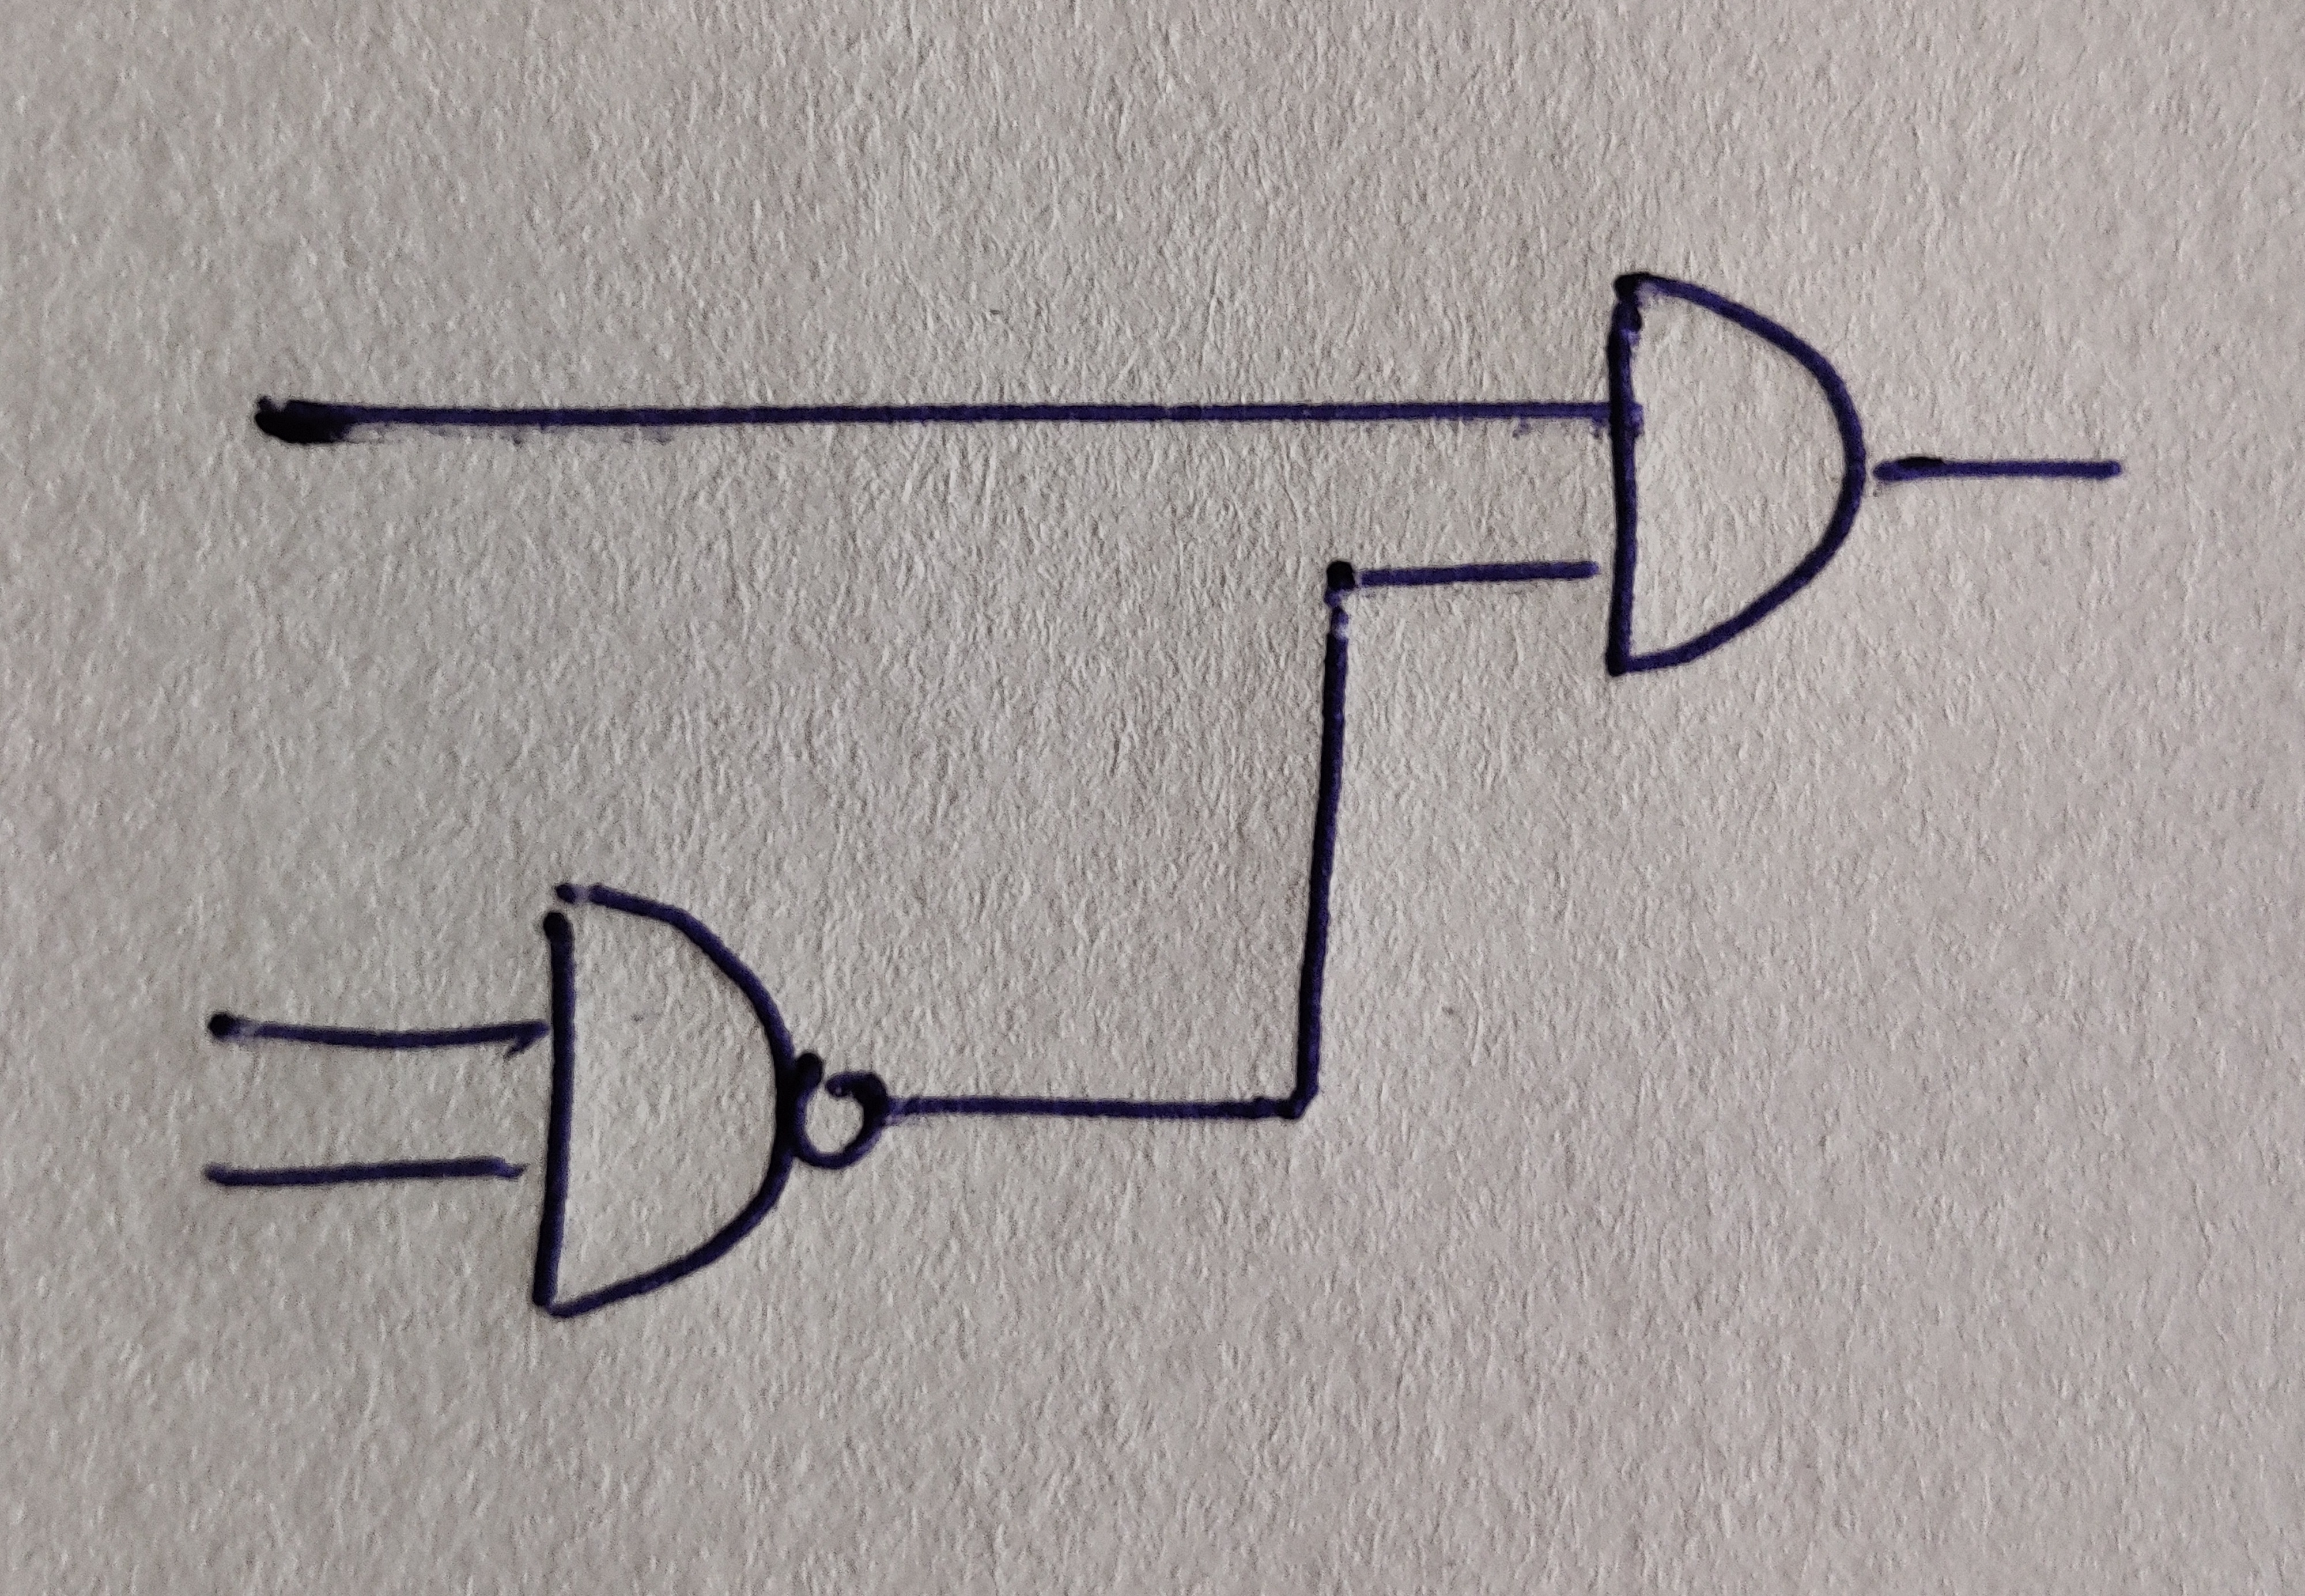and: (532, 883, 793, 1321), (1606, 272, 1867, 680)
not: (793, 1051, 888, 1170)
